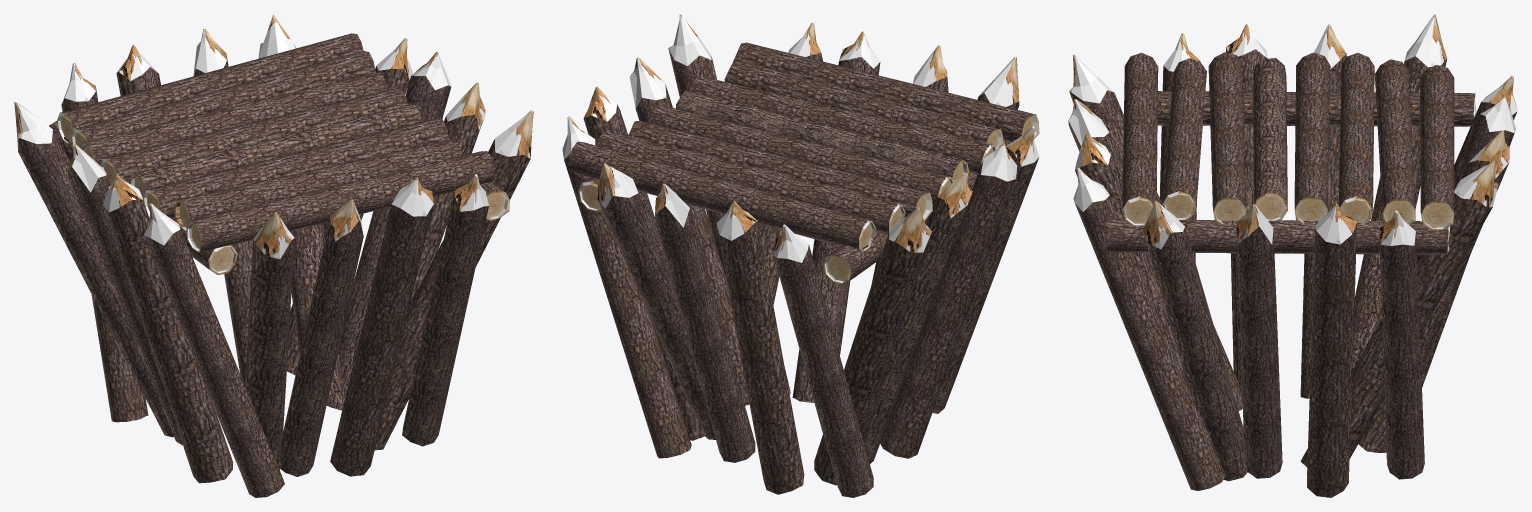
Rendered from turret.FBX.
The picture shows the model from 3 angles, left to right: view 1: azimuth 30°, elevation 25°; view 2: azimuth 150°, elevation 25°; view 3: azimuth 270°, elevation 25°; orthographic projection.
Visible parts, largest first — view 1: Cylinder086, Cylinder075, Cylinder077, Cylinder087, Cylinder088, Cylinder089, Cylinder078, Cylinder085, Cylinder092, Cylinder093, Cylinder084, Cylinder094 (+14 smaller); view 2: Cylinder075, Cylinder082, Cylinder081, Cylinder083, Cylinder074, Cylinder084, Cylinder078, Cylinder080, Cylinder089, Cylinder095, Cylinder094, Cylinder076 (+14 smaller); view 3: Cylinder073, Cylinder088, Cylinder068, Cylinder071, Cylinder074, Cylinder080, Cylinder054, Cylinder092, Cylinder094, Cylinder089, Cylinder093, Cylinder084 (+14 smaller).
Part boxes in pixels (x1,y1,x2,y2): Cylinder086: [330, 177, 433, 476]; Cylinder075: [103, 173, 233, 483]; Cylinder077: [144, 203, 284, 497]; Cylinder087: [279, 199, 363, 476]; Cylinder088: [402, 174, 488, 446]; Cylinder089: [186, 151, 494, 252]; Cylinder078: [14, 102, 173, 437]; Cylinder085: [244, 211, 294, 470]; Cylinder092: [143, 118, 449, 218]; Cylinder093: [80, 72, 387, 165]; Cylinder084: [57, 33, 363, 144]; Cylinder094: [100, 88, 407, 188]; Cylinder075: [880, 142, 1017, 458]; Cylinder082: [716, 200, 804, 494]; Cylinder081: [654, 183, 755, 462]; Cylinder083: [773, 224, 873, 497]; Cylinder074: [562, 116, 691, 458]; Cylinder084: [568, 141, 876, 251]; Cylinder078: [814, 207, 931, 485]; Cylinder080: [597, 163, 715, 439]; Cylinder089: [733, 42, 1039, 142]; Cylinder095: [597, 131, 905, 234]; Cylinder094: [650, 105, 953, 205]; Cylinder076: [864, 173, 972, 463]; Cylinder073: [1307, 204, 1357, 497]; Cylinder088: [1073, 167, 1225, 490]; Cylinder068: [1142, 200, 1247, 481]; Cylinder071: [1236, 204, 1282, 478]; Cylinder074: [1379, 210, 1424, 479]; Cylinder080: [1300, 161, 1498, 467]; Cylinder054: [1106, 219, 1449, 254]; Cylinder092: [1208, 52, 1246, 224]; Cylinder094: [1294, 52, 1330, 223]; Cylinder089: [1122, 52, 1158, 225]; Cylinder093: [1338, 53, 1374, 224]; Cylinder084: [1420, 65, 1454, 230].
Size of the model in its own units: 12.47 by 10.39 by 12.37.
2 materials, 2 textured.
